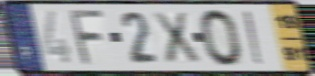2: (121, 10, 160, 66)
4: (43, 9, 73, 67)
F: (69, 8, 107, 67)
I: (241, 9, 266, 67)
O: (197, 7, 245, 68)
X: (150, 11, 204, 65)
